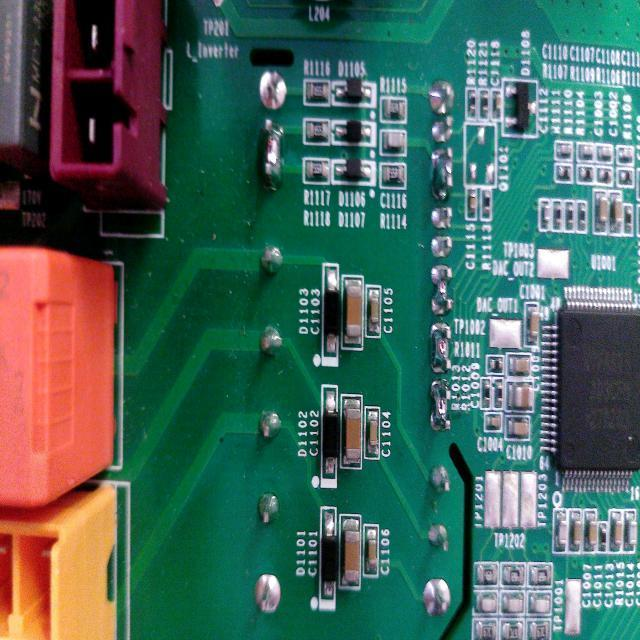Soldering shorted: (255, 112, 290, 198), (424, 318, 457, 374), (428, 257, 456, 320), (428, 143, 456, 204), (428, 374, 454, 436)
